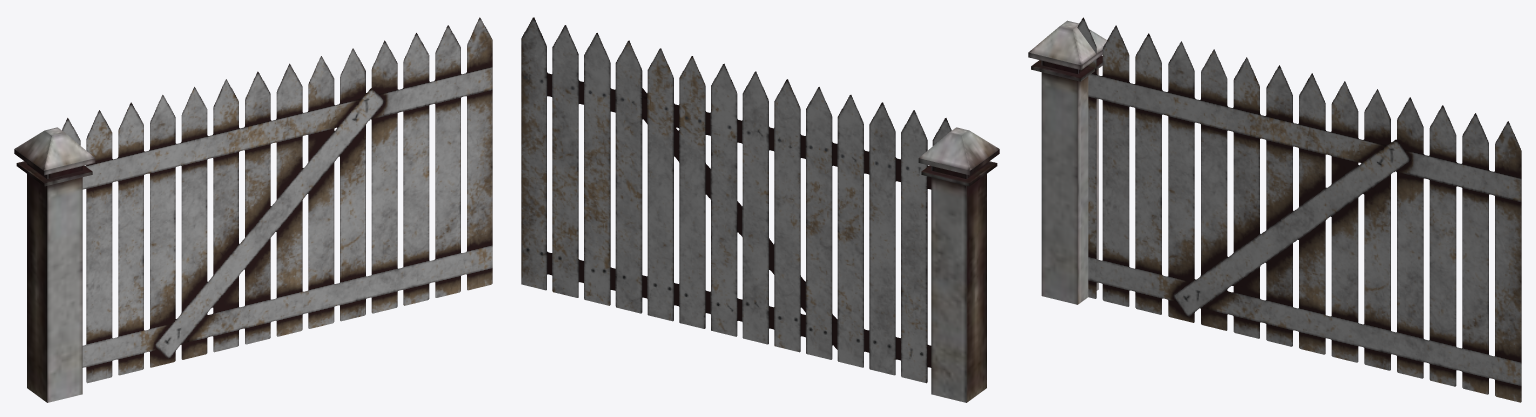
File: wood_fence.glb
3 renders of one model, left to right at view 1: azimuth 30°, elevation 25°; view 2: azimuth 150°, elevation 25°; view 3: azimuth 330°, elevation 25°, orthographic. The views are drawn at different scales.
Visible parts, largest first — view 1: panel, post; view 2: panel, post; view 3: panel, post.
Boxes of the visible parts, box(x1,y1,x2,y2) form: panel: box(62, 17, 492, 383); post: box(14, 127, 95, 402); panel: box(521, 17, 951, 383); post: box(918, 127, 999, 402); panel: box(1077, 17, 1521, 402); post: box(1028, 20, 1106, 304).
Bounding box in the file's own units: 2.64 × 1.47 × 0.292.
Materials: 2 (2 with a texture image).
